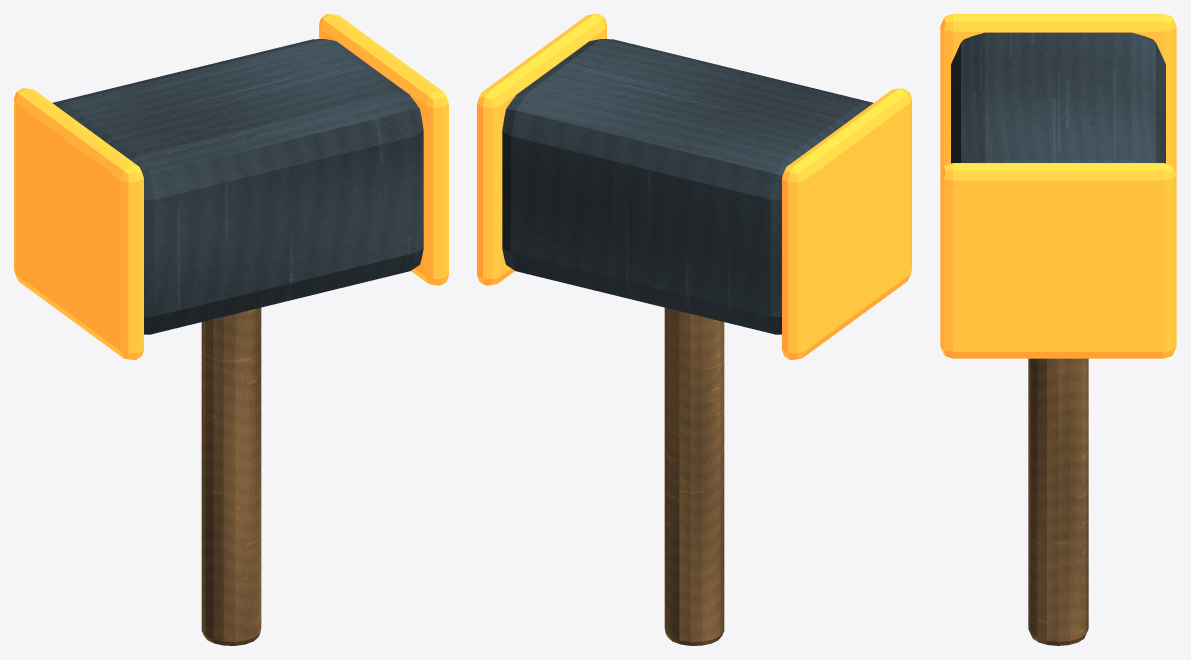
Rendered from hammer.glb.
3 views of the same model, side by side, from view 1: azimuth 30°, elevation 25°; view 2: azimuth 150°, elevation 25°; view 3: azimuth 270°, elevation 25° (orthographic).
Parts seen in each view (by area): view 1: hammer; view 2: hammer; view 3: hammer.
Boxes of the visible parts, left/top/right/bottom form: hammer: left=14, top=14, right=448, bottom=645; hammer: left=477, top=14, right=911, bottom=645; hammer: left=940, top=14, right=1176, bottom=645.
Size of the model in its own units: 0.88 by 1.4 by 0.55.
3 materials, 2 textured.
